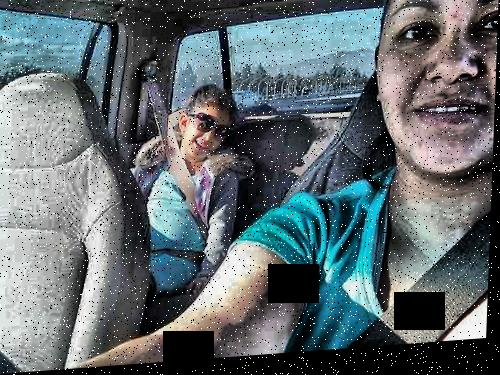seatbelt: (137, 71, 206, 242), (381, 224, 483, 337)
